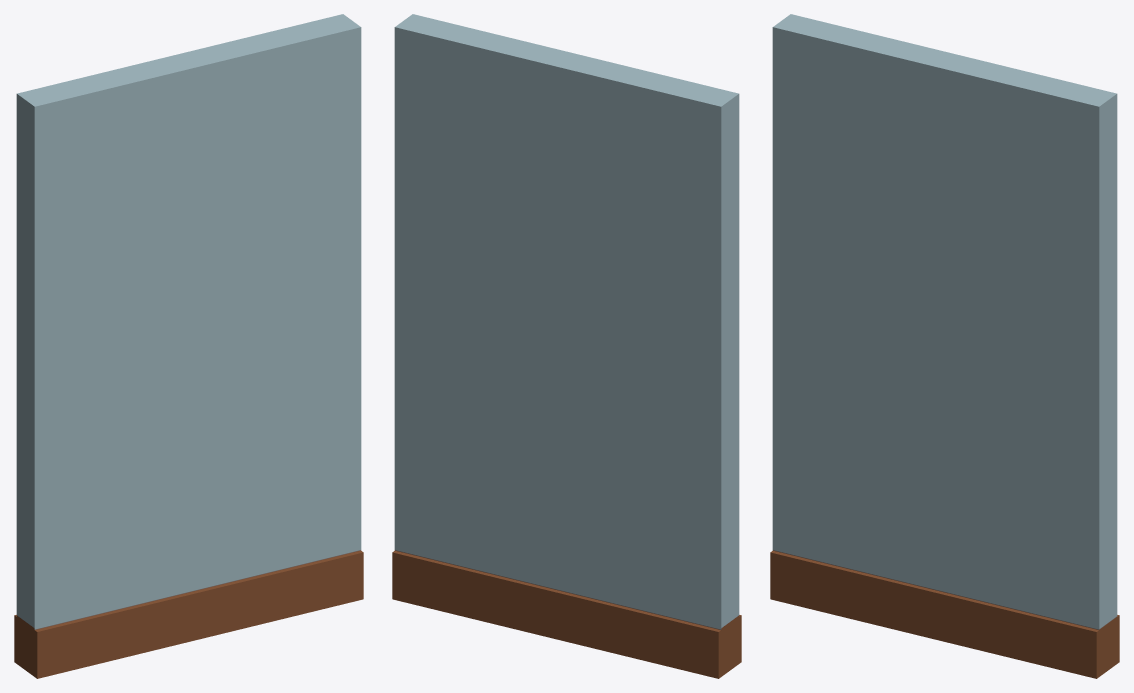
The model's file is wall.fbx.
3 renders of one model, left to right at view 1: azimuth 30°, elevation 25°; view 2: azimuth 150°, elevation 25°; view 3: azimuth 330°, elevation 25°, orthographic.
Parts seen in each view (by area): view 1: walltile_normal; view 2: walltile_normal; view 3: walltile_normal.
Boxes of the visible parts, box(x1,y1,x2,y2) form: walltile_normal: box(14, 14, 363, 678); walltile_normal: box(392, 14, 741, 678); walltile_normal: box(770, 14, 1119, 678).
Bounding box in the file's own units: 8.76 × 14.62 × 1.07.
